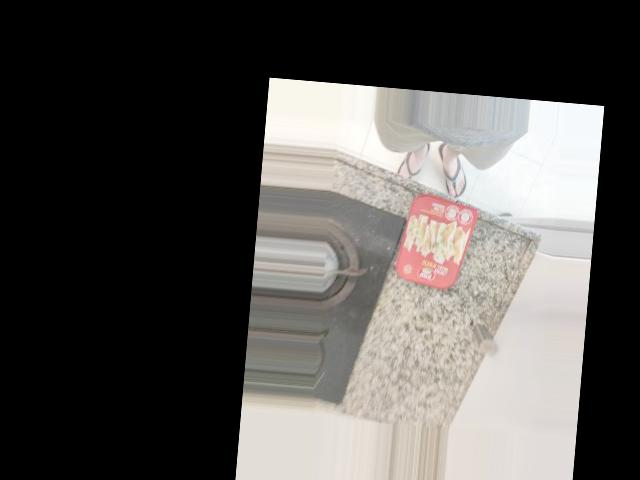cheese: (380, 264, 479, 380)
